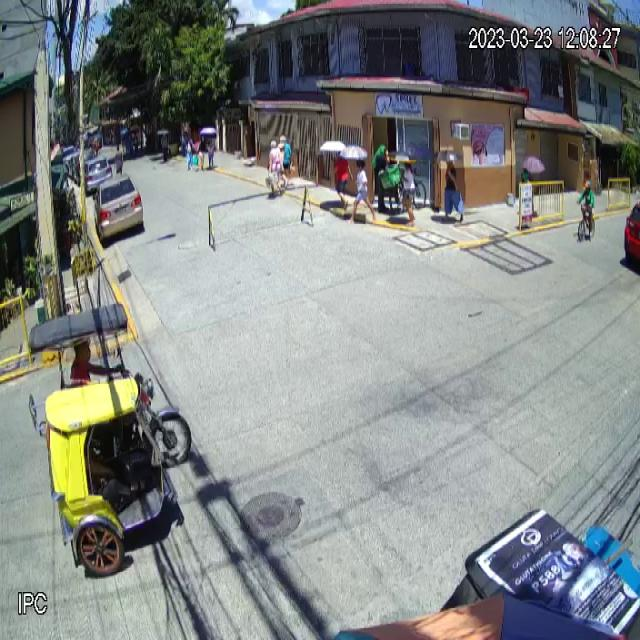Car: (94, 173, 144, 245)
Tricycle: (28, 302, 192, 576)
